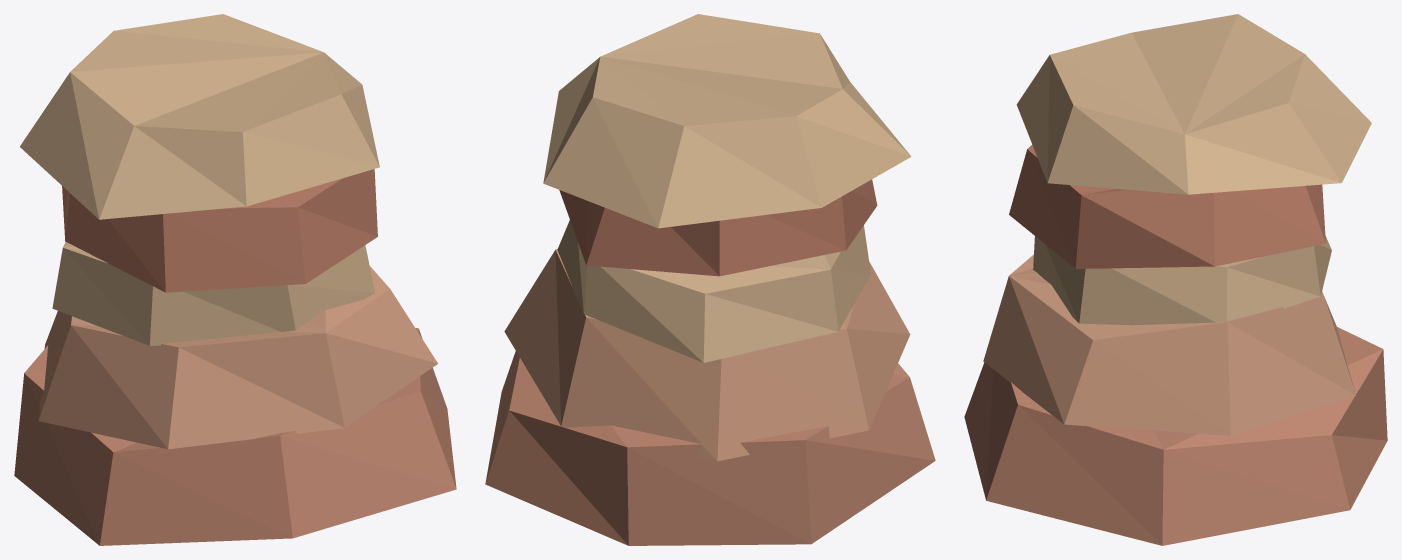
File: tarhut_arenito_1.glb
3 renders of one model, left to right at view 1: azimuth 30°, elevation 25°; view 2: azimuth 150°, elevation 25°; view 3: azimuth 270°, elevation 25°, orthographic. The views are drawn at different scales.
Parts seen in each view (by area): view 1: arenito; view 2: arenito; view 3: arenito.
Part boxes in pixels (x1,y1,x2,y2): arenito: (14, 14, 456, 545); arenito: (485, 14, 935, 545); arenito: (964, 14, 1387, 545).
Bounding box in the file's own units: 1.96 × 1.95 × 1.9.
